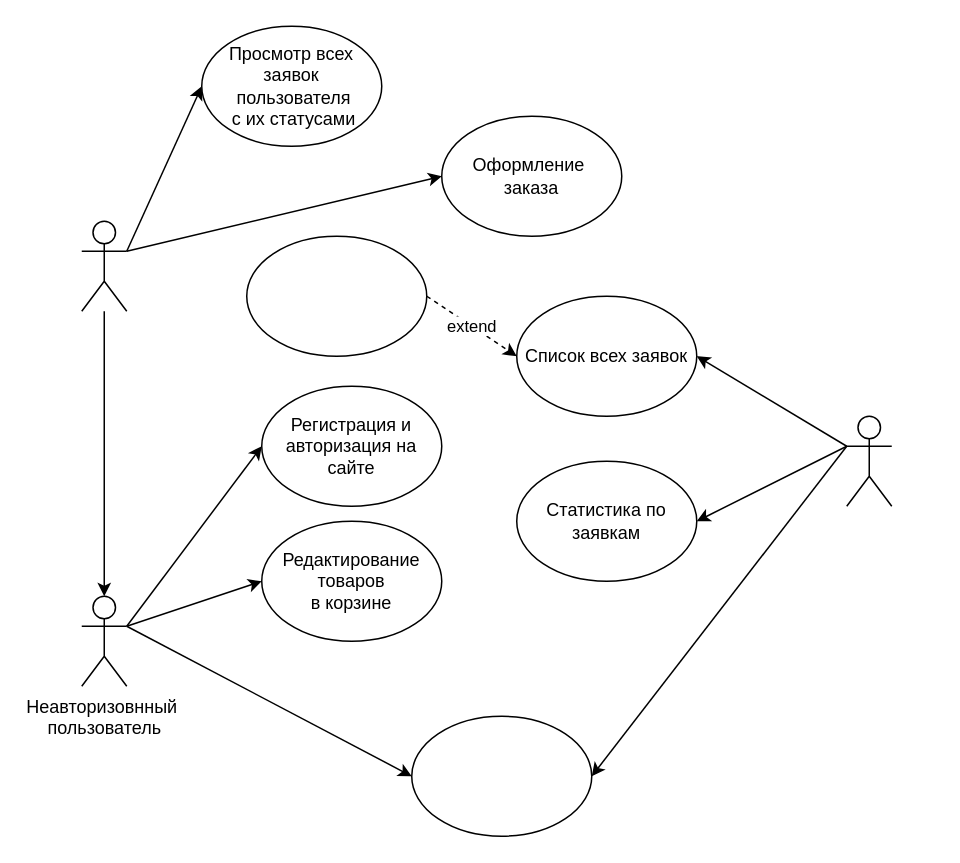
Some shapes in this 960 by 863 pixel diagram are drawn without their labels. Here are the shapes that lost their labels. From the top down, the centre of each, then its label:
point (103, 265): Авторизованный пользователь
point (336, 295): Изменение статуса заявок
point (868, 460): Администратор
point (501, 775): Просмотр контента сайта
